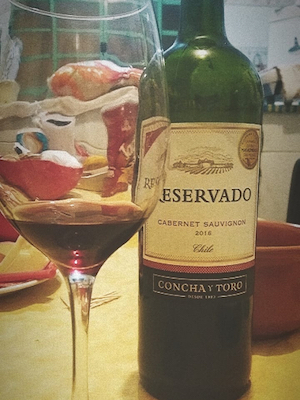reservado cabernet sauvignon: (124, 6, 276, 387)
